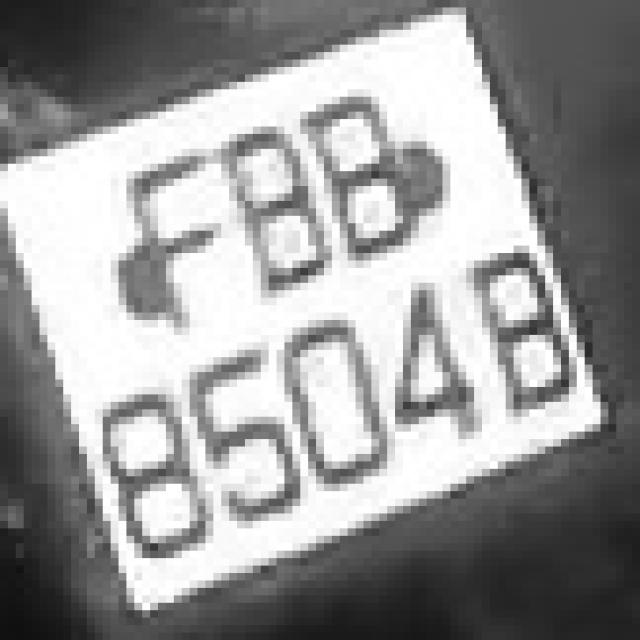0: (261, 312, 395, 521)
4: (356, 260, 482, 447)
5: (174, 350, 300, 521)
8: (79, 379, 213, 588)
B: (174, 96, 332, 312), (458, 238, 577, 447), (308, 82, 427, 275)
F: (95, 127, 229, 357)
